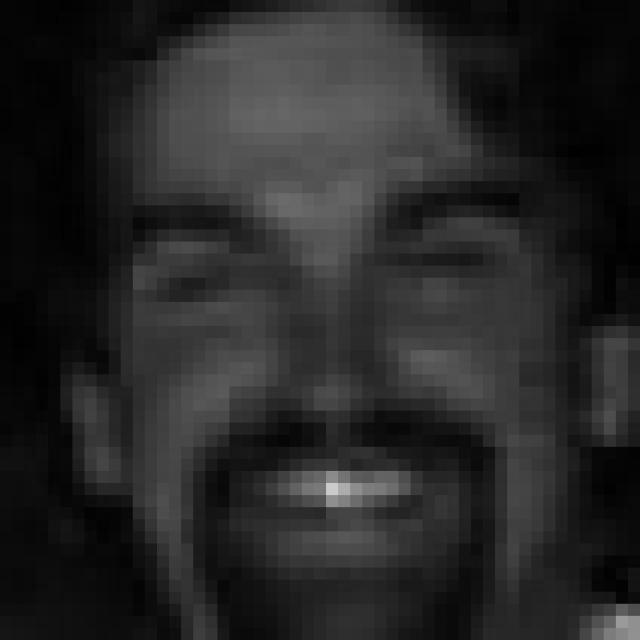real: (96, 18, 566, 640), (138, 224, 506, 318)
